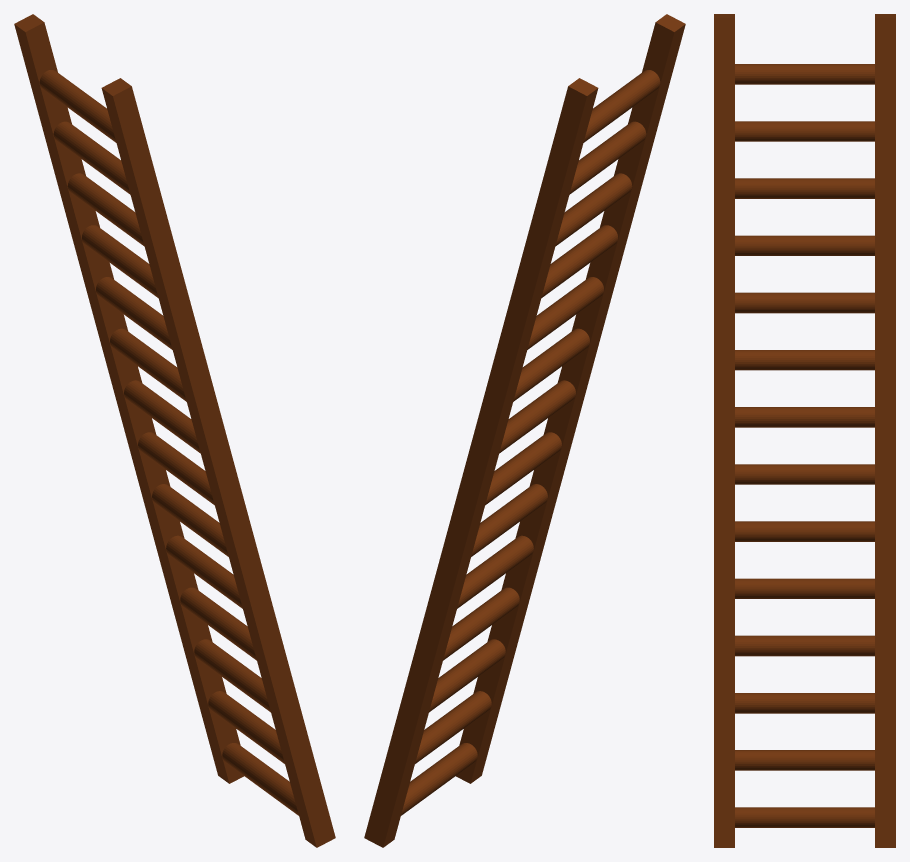
Rendered from Ladder.fbx.
3 views of the same model, side by side, from view 1: azimuth 30°, elevation 25°; view 2: azimuth 150°, elevation 25°; view 3: azimuth 270°, elevation 25° (orthographic). The views are drawn at different scales.
Parts seen in each view (by area): view 1: Cube.001, Cube, Cylinder.001, Cylinder.002, Cylinder.006, Cylinder.010, Cylinder.011, Cylinder.005, Cylinder.009, Cylinder.012, Cylinder.013, Cylinder (+4 smaller); view 2: Cube, Cube.001, Cylinder.001, Cylinder.002, Cylinder.006, Cylinder.010, Cylinder.011, Cylinder.005, Cylinder.009, Cylinder.012, Cylinder.013, Cylinder (+4 smaller); view 3: Cube, Cube.001, Cylinder.004, Cylinder.010, Cylinder, Cylinder.001, Cylinder.002, Cylinder.003, Cylinder.005, Cylinder.006, Cylinder.007, Cylinder.008 (+4 smaller).
Part boxes in pixels (<box>): Cube.001: <box>101,78,335,847</box>; Cube: <box>14,14,243,783</box>; Cylinder.001: <box>53,121,130,194</box>; Cylinder.002: <box>67,173,144,246</box>; Cylinder.006: <box>124,380,200,453</box>; Cylinder.010: <box>180,587,256,660</box>; Cylinder.011: <box>194,639,270,712</box>; Cylinder.005: <box>110,328,186,401</box>; Cylinder.009: <box>166,535,242,608</box>; Cylinder.012: <box>208,691,284,763</box>; Cylinder.013: <box>222,743,298,815</box>; Cylinder: <box>39,70,116,142</box>; Cube: <box>364,78,598,847</box>; Cube.001: <box>456,14,685,783</box>; Cylinder.001: <box>569,121,646,194</box>; Cylinder.002: <box>555,173,632,246</box>; Cylinder.006: <box>499,380,575,453</box>; Cylinder.010: <box>443,587,519,660</box>; Cylinder.011: <box>429,639,505,712</box>; Cylinder.005: <box>513,328,589,401</box>; Cylinder.009: <box>457,535,533,608</box>; Cylinder.012: <box>415,691,491,763</box>; Cylinder.013: <box>401,743,477,815</box>; Cylinder: <box>583,70,660,142</box>; Cube: <box>875,14,895,847</box>; Cube.001: <box>714,14,734,847</box>; Cylinder.004: <box>735,292,874,313</box>; Cylinder.010: <box>735,635,874,656</box>; Cylinder: <box>735,64,874,84</box>; Cylinder.001: <box>735,121,874,141</box>; Cylinder.002: <box>735,178,874,198</box>; Cylinder.003: <box>735,235,874,255</box>; Cylinder.005: <box>735,350,874,370</box>; Cylinder.006: <box>735,407,874,427</box>; Cylinder.007: <box>735,464,874,484</box>; Cylinder.008: <box>735,521,874,541</box>.
Bounding box in the file's own units: 295 × 1019 × 226.
